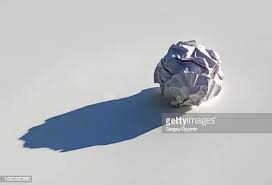crumpled paper: (155, 41, 227, 106)
